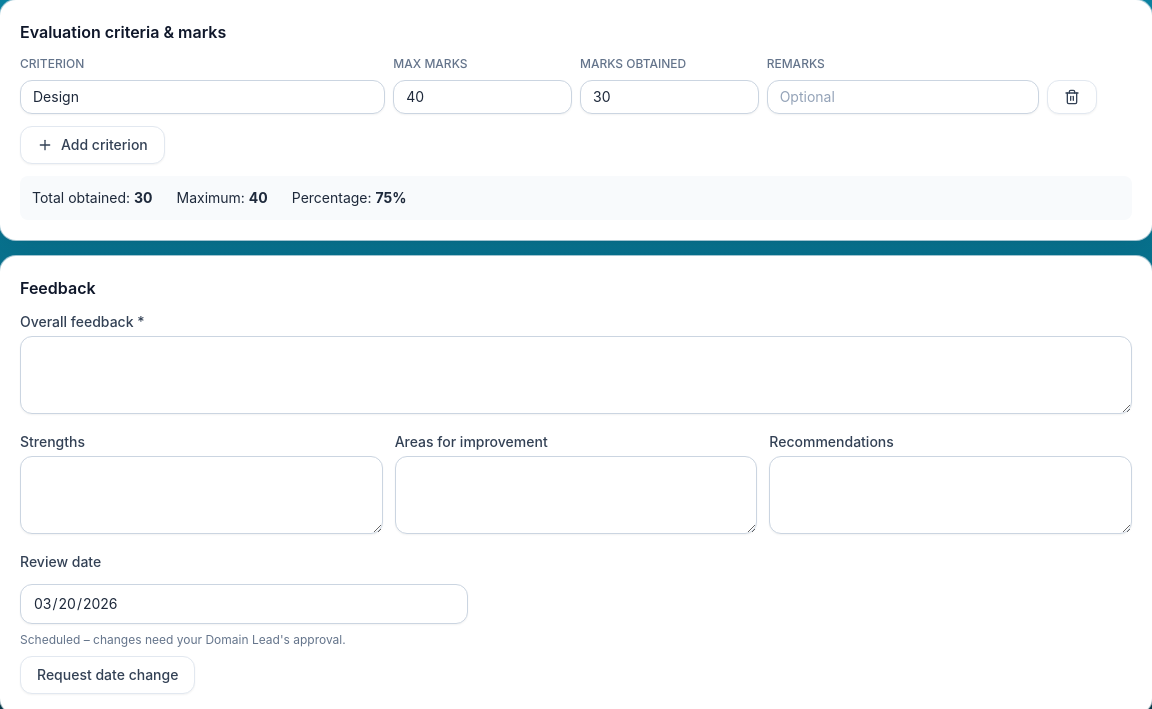
Test: mentor: review date field › validates the request locally, sends it, and refreshes the review
The image size is (1152, 709).
Click the button "Request date change" at (108, 675), box [20,656,195,694]
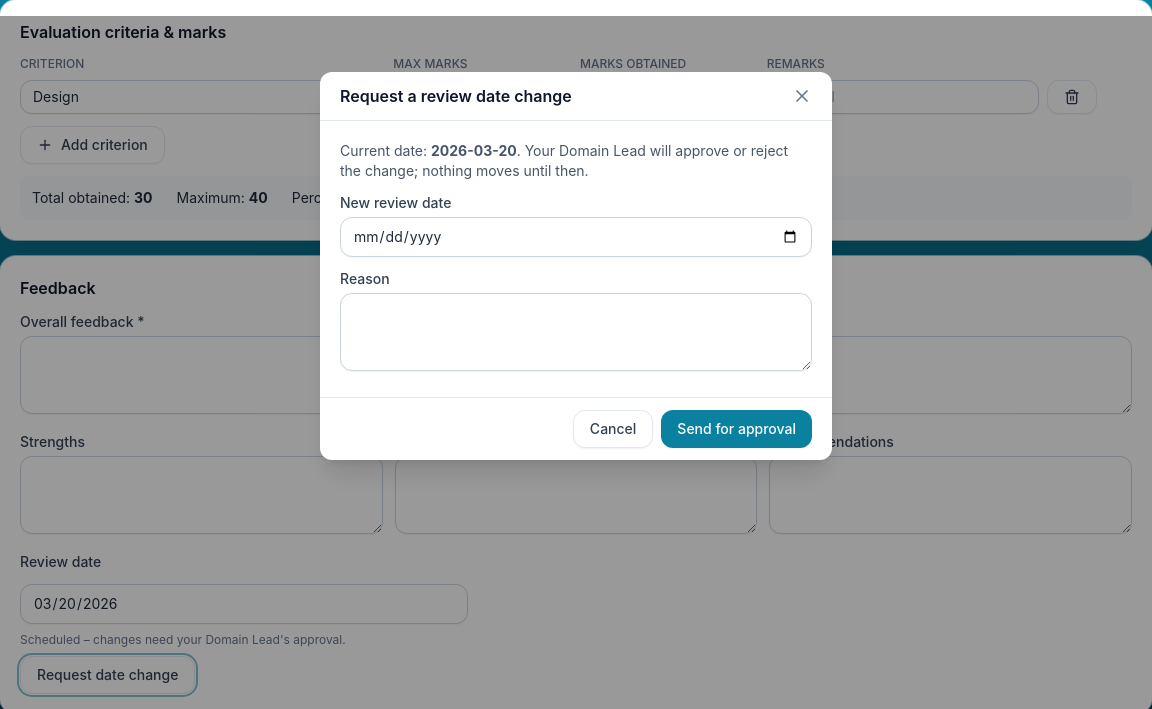
Expected: the text "2026-03-20" is shown, [431,142,517,159]
Click the button "Send for approval" at (737, 429), box [661,410,812,448]
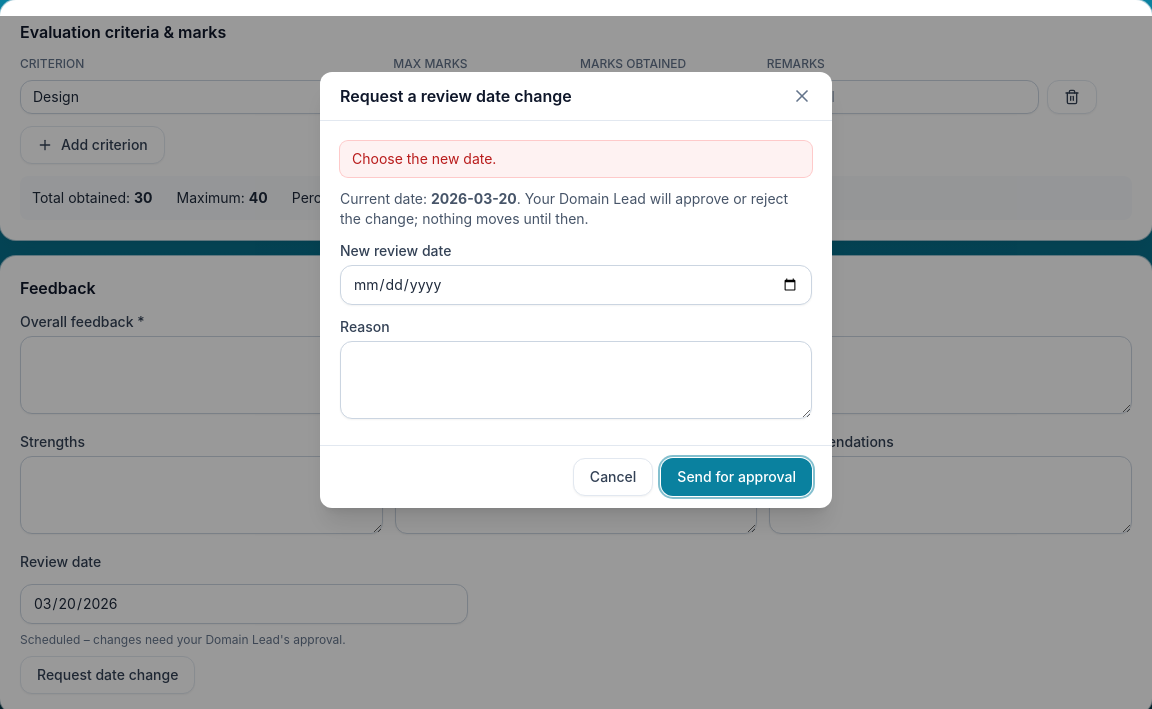
Expected: the message shows "Choose the new date", [352,150,496,167]
Type "2026-03-27" into the date field labelled "New review date" at (576, 285), box [340,265,812,305]
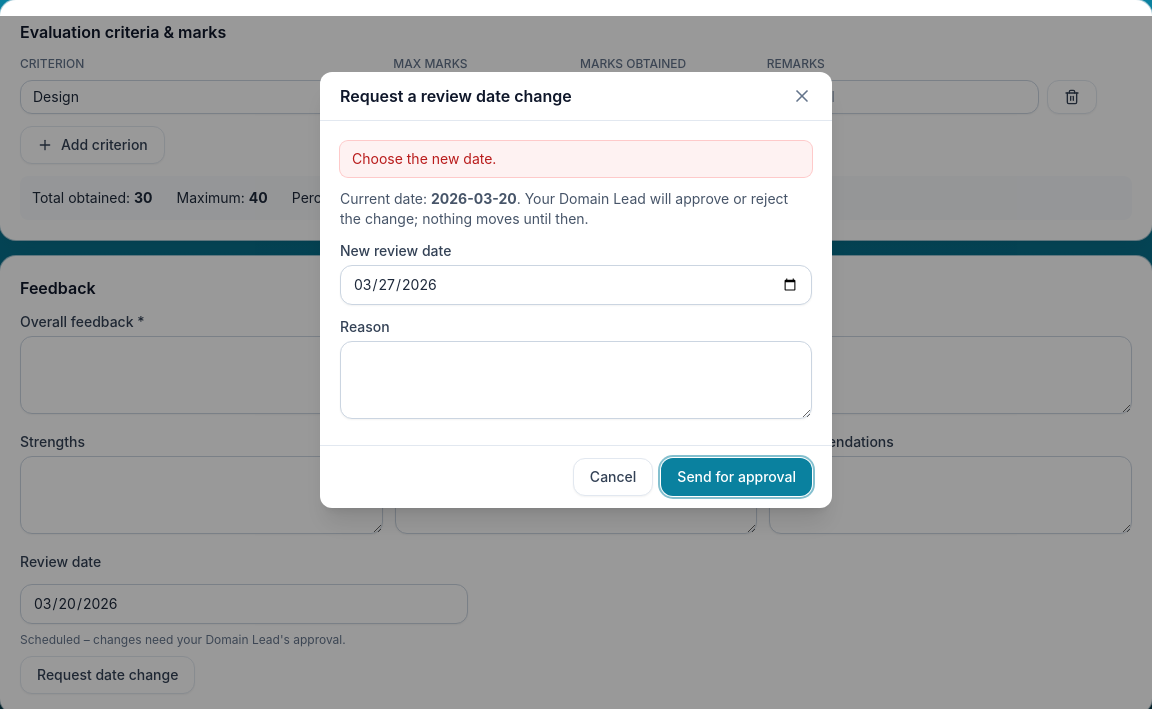
Click the button "Send for approval" at (737, 477), box [661,458,812,496]
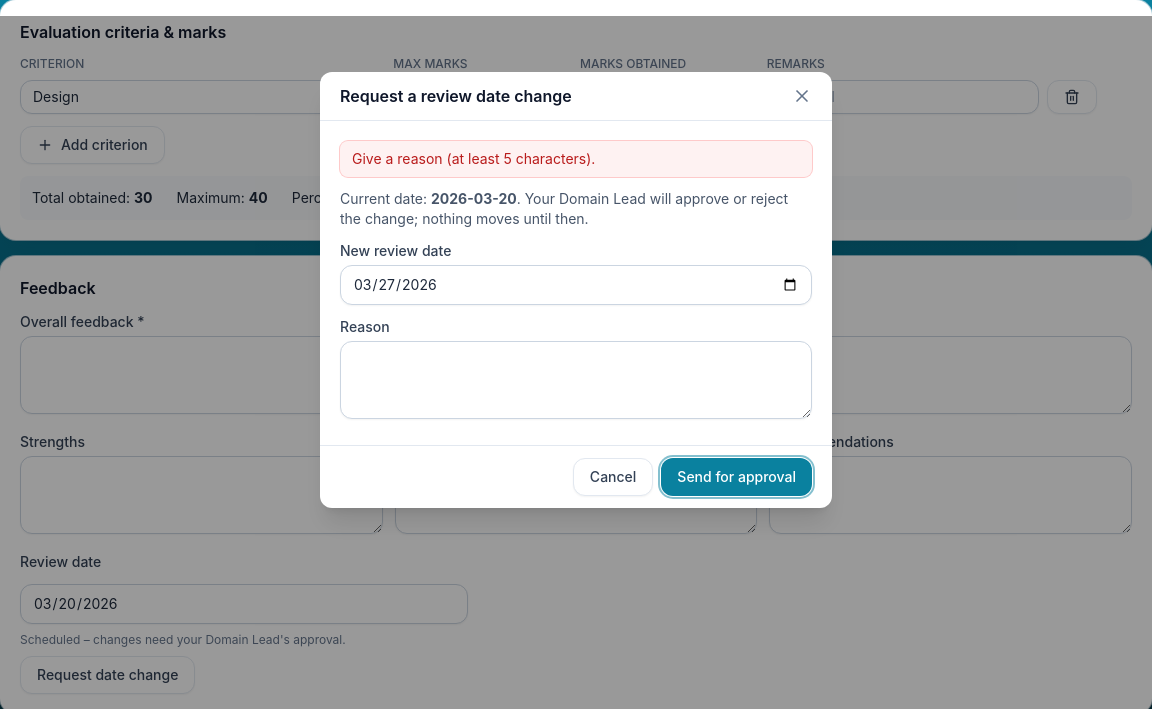
Expected: the message shows "at least 5 characters", [352,150,595,167]
Type "Student is on leave" into the text box labelled "Reason" at (576, 380), box [340,341,812,419]
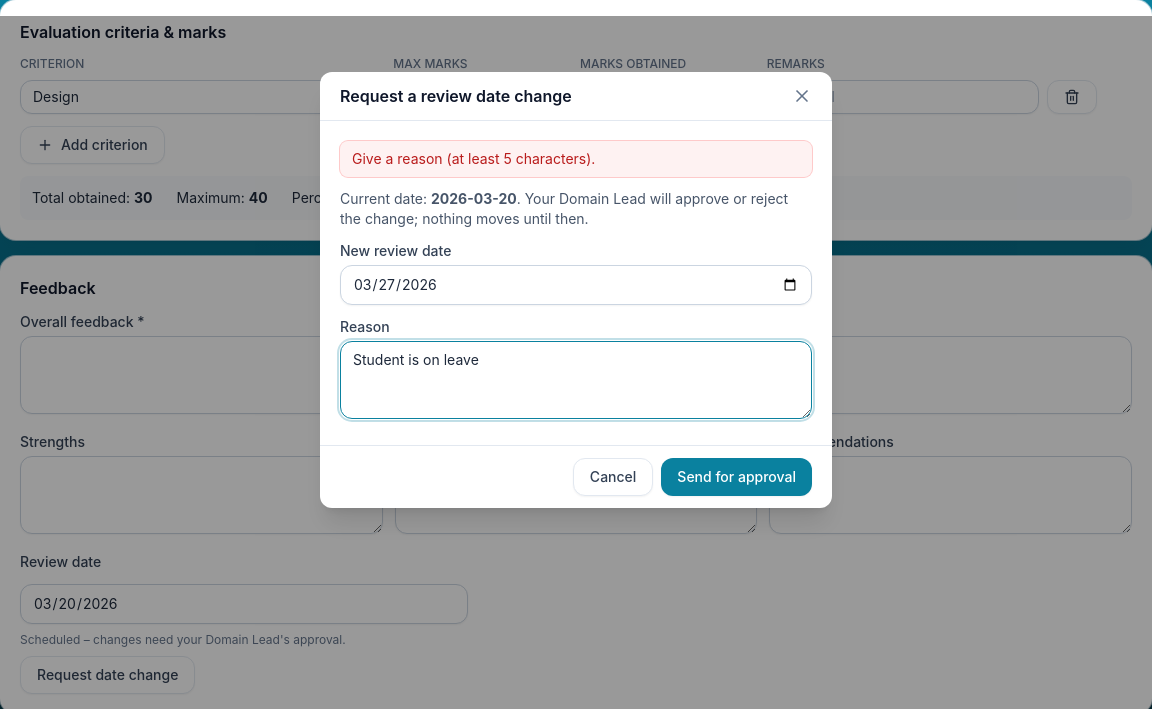
Click the button "Send for approval" at (737, 477), box [661,458,812,496]
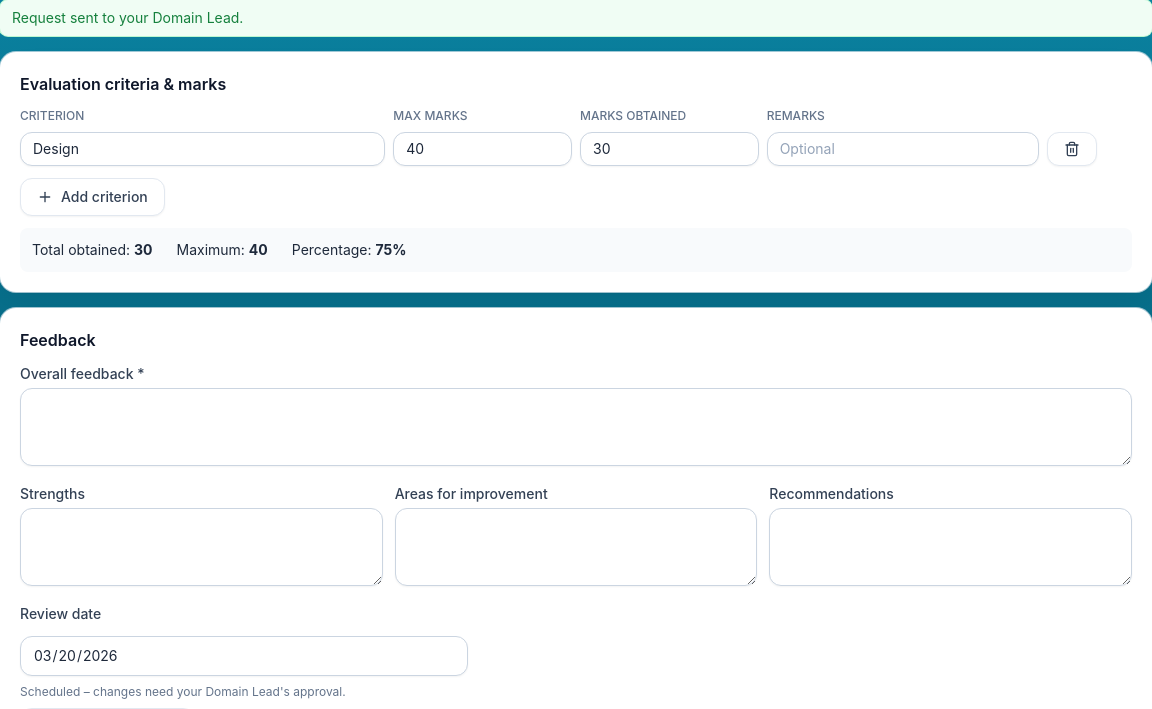
Expected: the text "Request sent to your Domain Lead." is shown, [0,0,1151,36]
